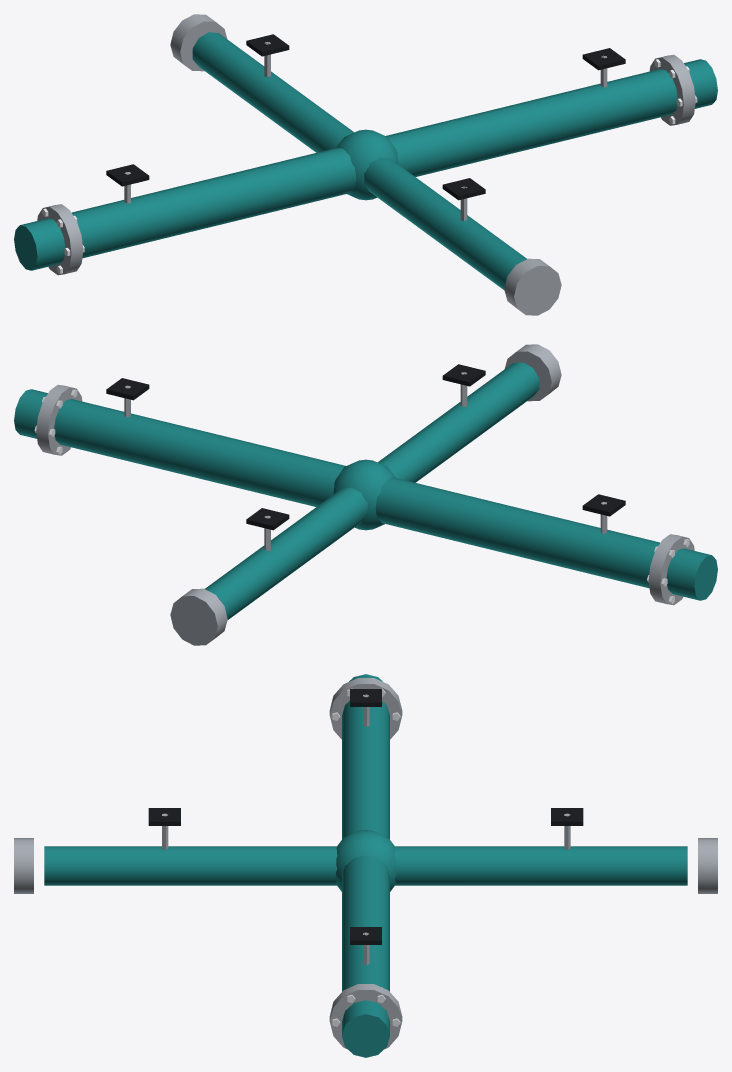
Rendered from pipe_ceiling_tee.glb.
The picture shows the model from 3 angles, top to bottom: view 1: azimuth 30°, elevation 25°; view 2: azimuth 150°, elevation 25°; view 3: azimuth 270°, elevation 25°; orthographic projection. The views are drawn at different scales.
Visible parts, largest first — view 1: pipe_ceiling_tee; view 2: pipe_ceiling_tee; view 3: pipe_ceiling_tee.
Boxes of the visible parts, box(x1,y1,x2,y2) form: pipe_ceiling_tee: box(14, 14, 717, 315); pipe_ceiling_tee: box(14, 344, 717, 645); pipe_ceiling_tee: box(14, 674, 717, 1057).
Bounding box in the file's own units: 2 × 0.23 × 1.75.
